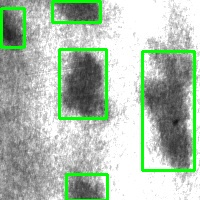patches: (142, 51, 194, 170), (59, 49, 106, 118), (66, 174, 107, 200), (52, 1, 100, 22), (1, 8, 24, 47)
